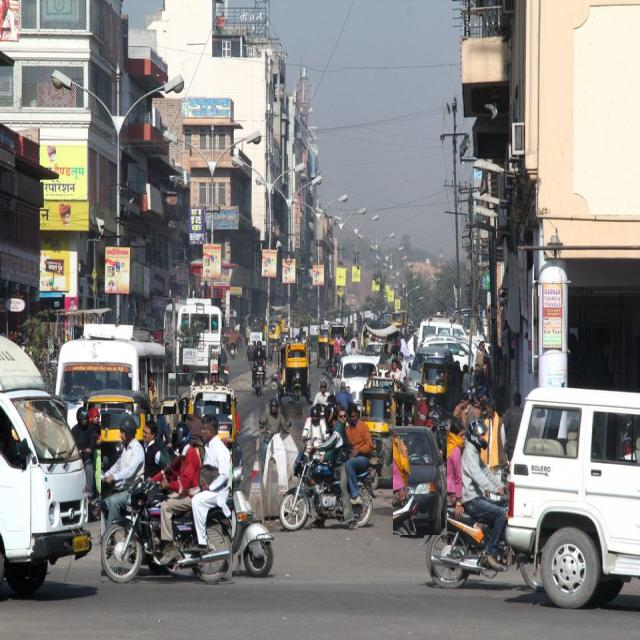autorickshaw: (360, 378, 415, 488), (176, 385, 236, 470), (279, 343, 309, 401)
bus: (56, 323, 169, 408), (165, 299, 221, 373)
car: (505, 388, 640, 608), (394, 427, 447, 535)
motorcycle: (101, 415, 232, 583), (424, 418, 540, 589), (164, 418, 272, 577), (280, 402, 372, 531), (252, 341, 266, 395)
truck: (0, 337, 91, 596)
